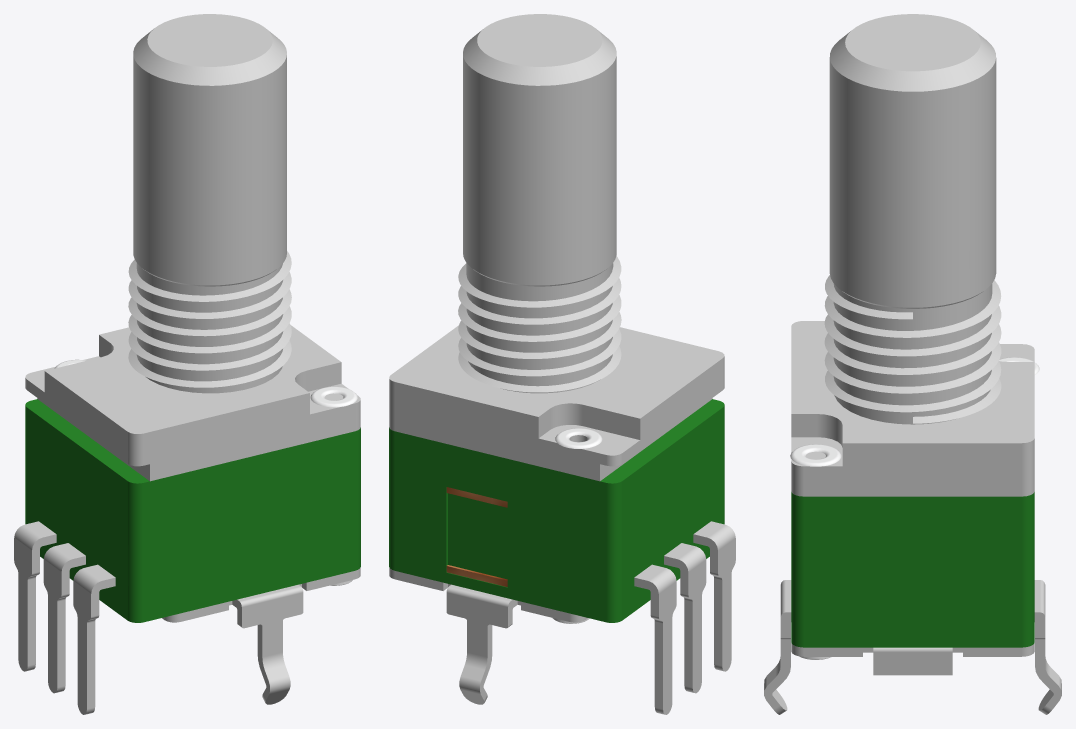
Rendered from pot_RD902F_6.35mm_shaft_alpha_9mm_vertical.glb.
3 renders of one model, left to right at view 1: azimuth 30°, elevation 25°; view 2: azimuth 150°, elevation 25°; view 3: azimuth 270°, elevation 25°, orthographic. The views are drawn at different scales.
Visible parts, largest first — view 1: Solid2, Solid1, Solid5, Solid3; view 2: Solid2, Solid1, Solid5, Solid6, Solid3; view 3: Solid2, Solid5, Solid1, Solid3.
Part boxes in pixels (x1=…): Solid2: x1=14, y1=251, x2=360, y2=714; Solid1: x1=25, y1=399, x2=360, y2=622; Solid5: x1=133, y1=14, x2=286, y2=286; Solid3: x1=54, y1=359, x2=357, y2=585; Solid2: x1=389, y1=256, x2=735, y2=714; Solid1: x1=389, y1=399, x2=724, y2=622; Solid5: x1=463, y1=14, x2=616, y2=286; Solid6: x1=446, y1=487, x2=507, y2=586; Solid3: x1=552, y1=428, x2=602, y2=623; Solid2: x1=764, y1=275, x2=1061, y2=714; Solid5: x1=829, y1=14, x2=996, y2=308; Solid1: x1=791, y1=492, x2=1034, y2=647; Solid3: x1=790, y1=357, x2=1039, y2=659.
Bounding box in the file's own units: 0.0125 × 0.0289 × 0.0116.
4 materials, 1 textured.
